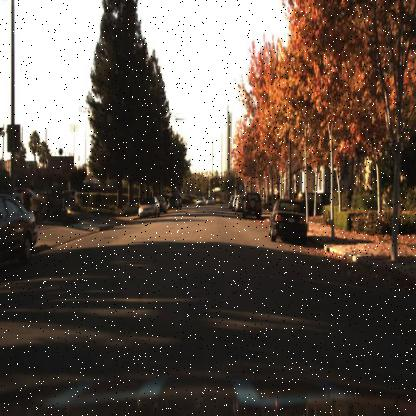car: (262, 190, 315, 257), (1, 191, 40, 272), (241, 189, 263, 221), (137, 193, 159, 221), (12, 184, 38, 206), (191, 190, 205, 212), (158, 190, 170, 214), (203, 190, 216, 209), (168, 194, 180, 210)
